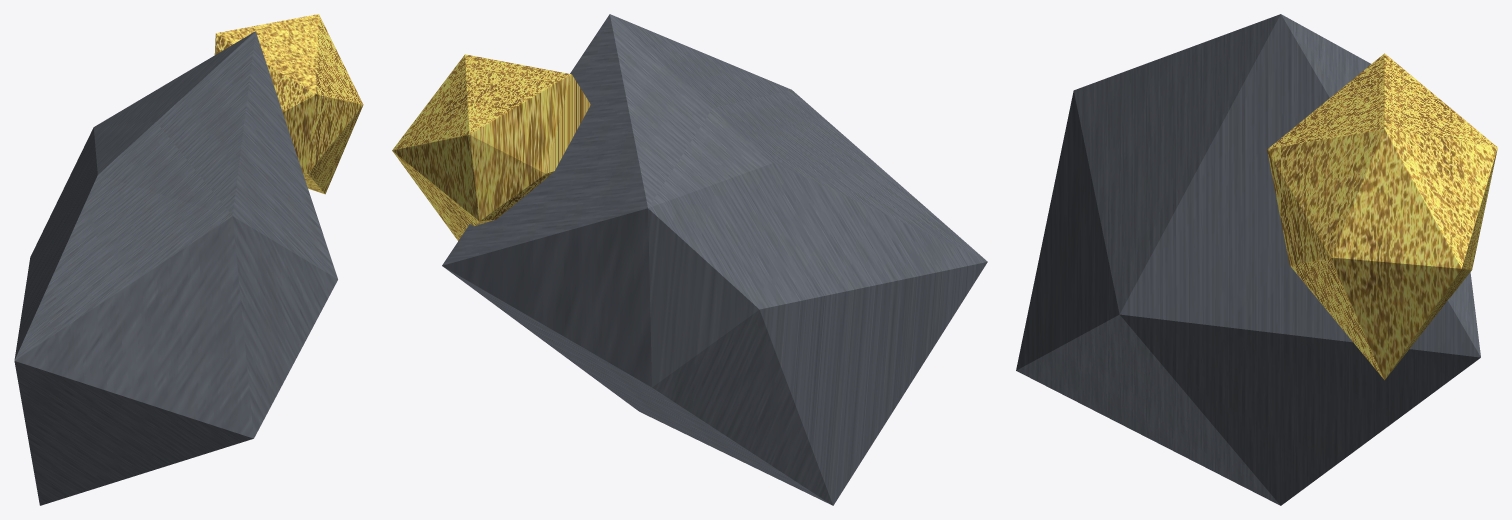
The model's file is debris.glb.
3 renders of one model, left to right at view 1: azimuth 30°, elevation 25°; view 2: azimuth 150°, elevation 25°; view 3: azimuth 270°, elevation 25°, orthographic. The views are drawn at different scales.
Bounding box in the file's own units: 2.02 × 1.83 × 1.39.
Materials: 2 (2 with a texture image).
